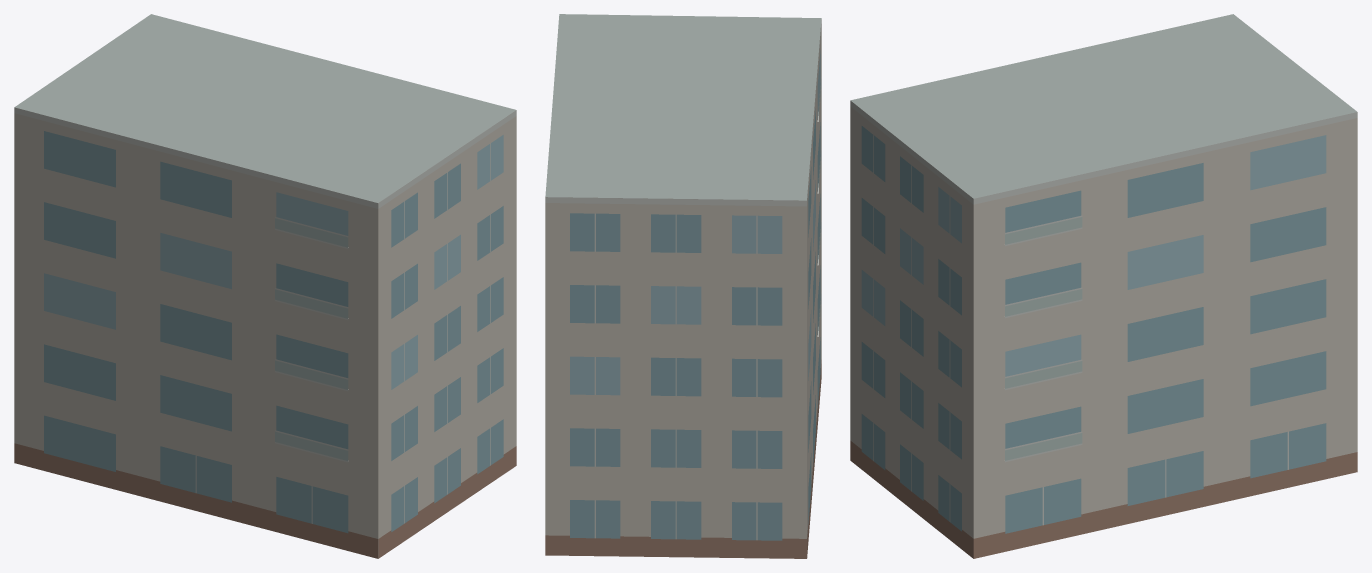
File: survey-upis-32574509.glb
3 views of the same model, side by side, from view 1: azimuth 30°, elevation 25°; view 2: azimuth 150°, elevation 25°; view 3: azimuth 270°, elevation 25° (orthographic).
Visible parts, largest first — view 1: survey-upis-32574509.tmp; view 2: survey-upis-32574509.tmp; view 3: survey-upis-32574509.tmp.
Boxes of the visible parts, x1,y1,x2,y2 form: survey-upis-32574509.tmp: (14, 14, 516, 558); survey-upis-32574509.tmp: (545, 14, 821, 558); survey-upis-32574509.tmp: (850, 14, 1357, 558).
Bounding box in the file's own units: 16.41 × 14.9 × 19.04.
